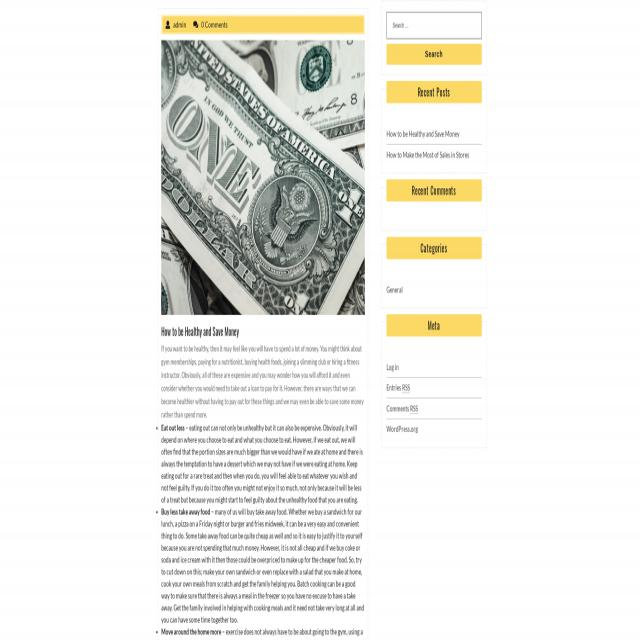button: (161, 35, 365, 321), (386, 44, 482, 64)
field: (386, 12, 482, 38)
